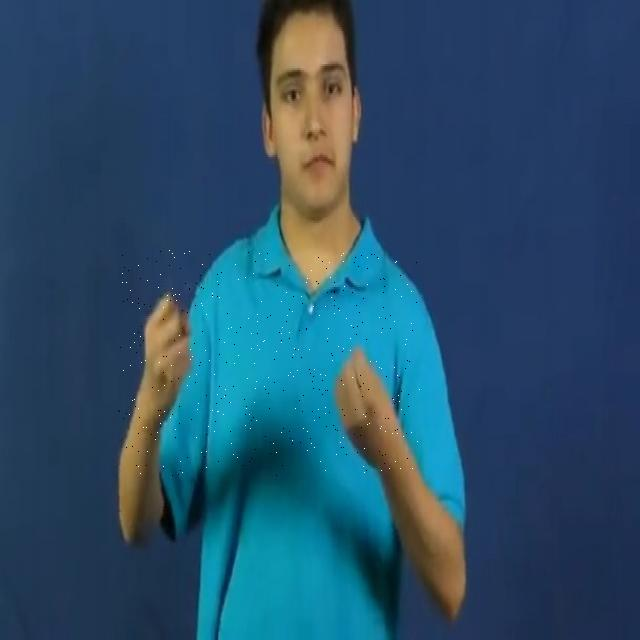drive: (118, 250, 420, 476)
